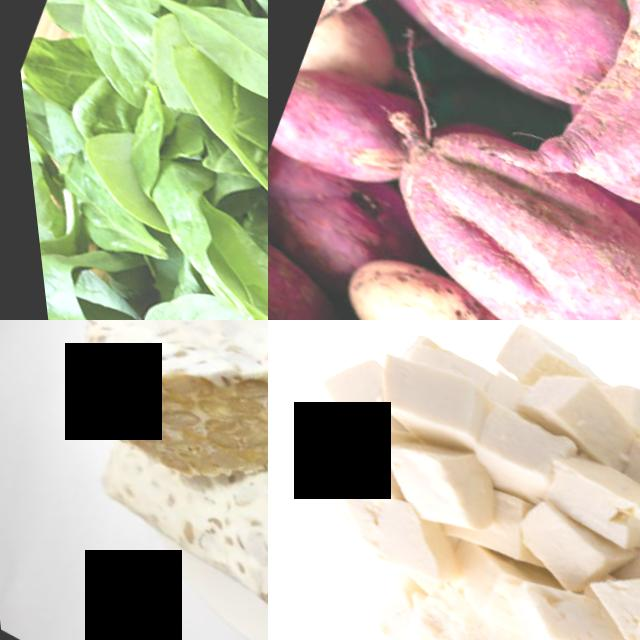spinach: (144, 0, 268, 142), (41, 0, 162, 105), (104, 265, 268, 320)
sweet potato: (332, 74, 640, 320), (492, 0, 640, 267)
tempeh: (28, 320, 268, 509), (156, 320, 268, 508), (175, 428, 268, 640)
tofu: (312, 468, 467, 596), (359, 411, 509, 541), (359, 331, 493, 448), (511, 344, 640, 460), (495, 485, 627, 597), (526, 430, 640, 547), (481, 558, 640, 640), (348, 582, 500, 640), (485, 320, 560, 377), (612, 416, 640, 510)
